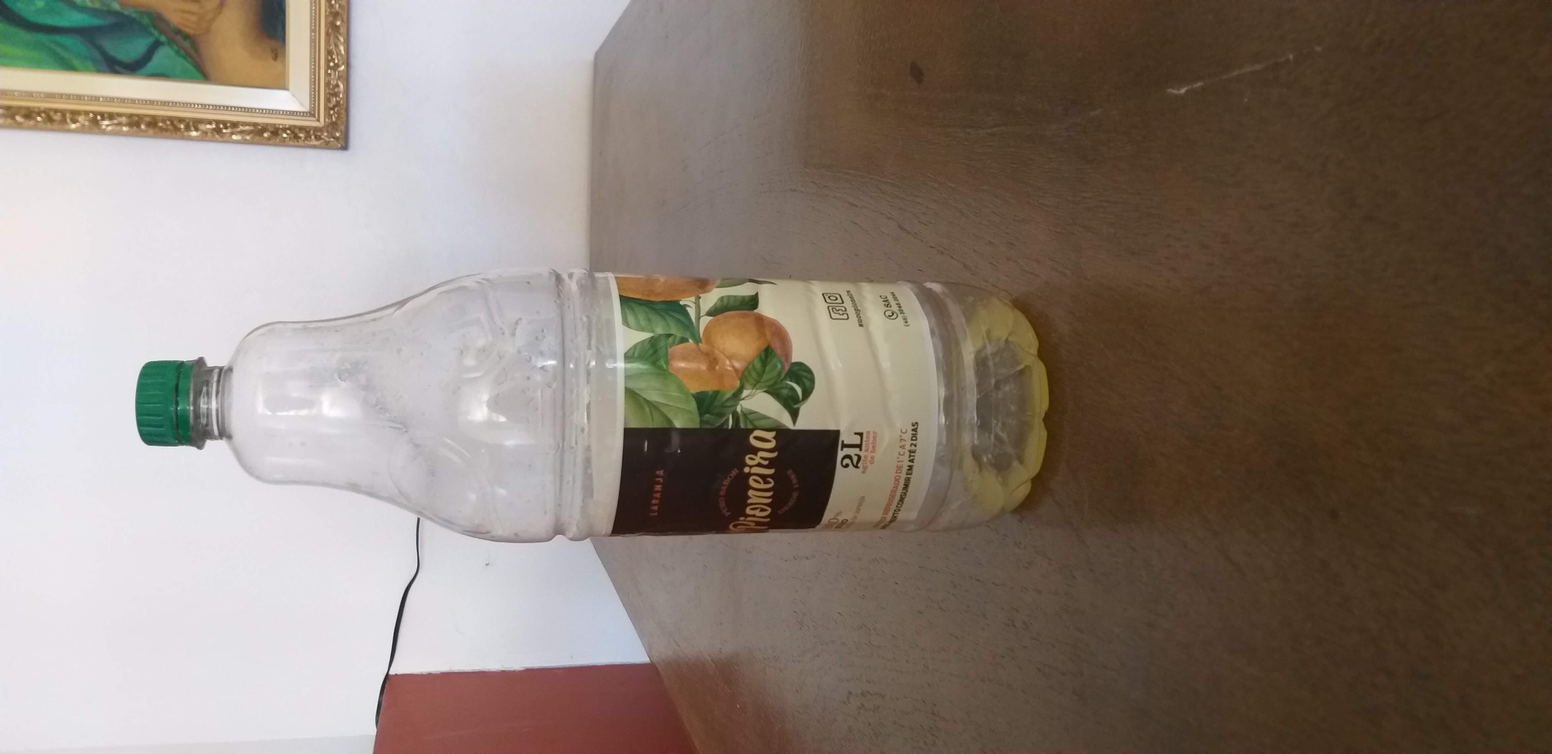bottle-plastic: (133, 262, 1059, 549)
